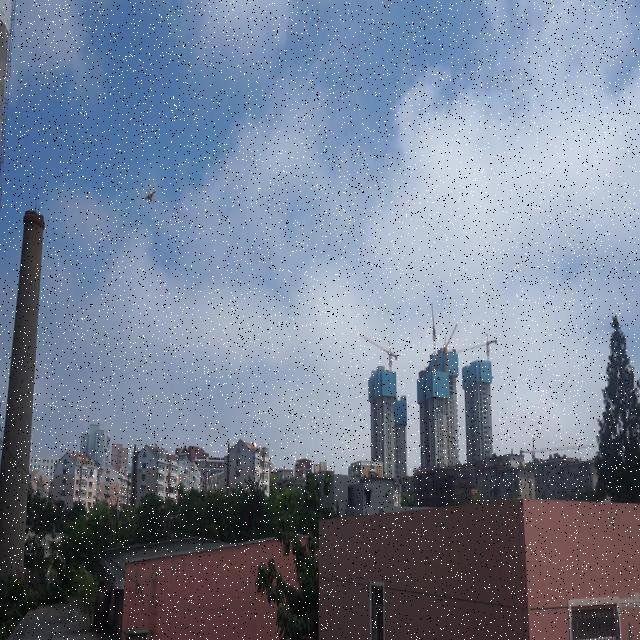UAV: (140, 185, 160, 204)
